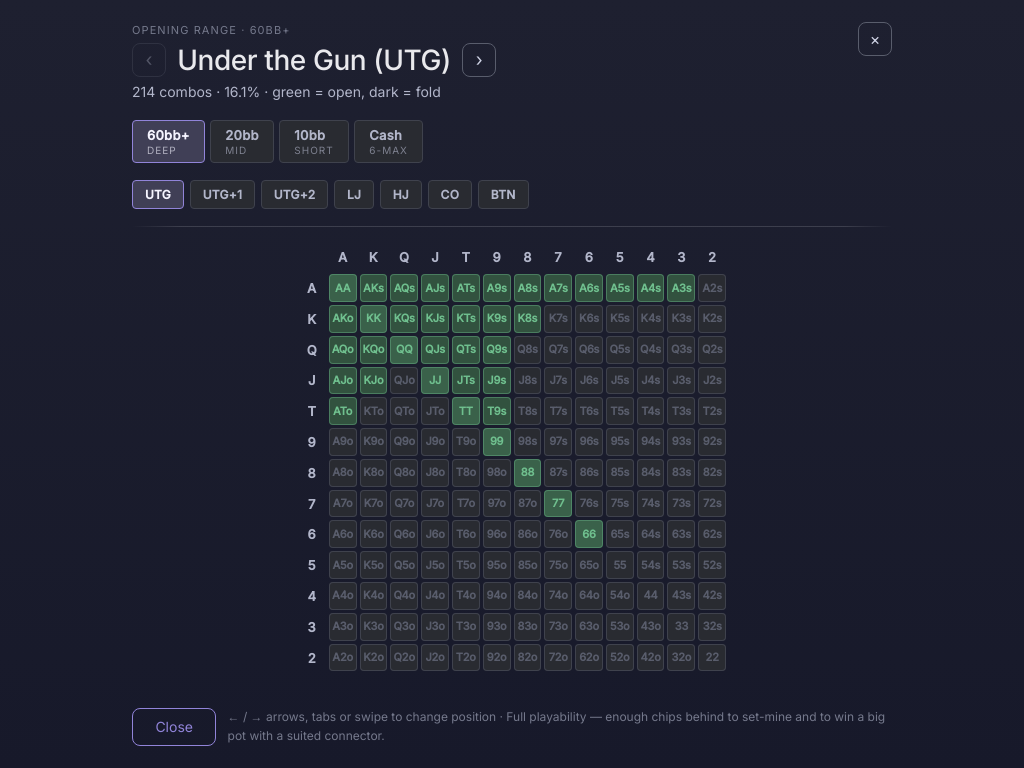
RangeSheet navigation › next/prev arrows step through the seat order
Step 1. Click the button named "Next position" → (479, 60), box [462,43,496,77]
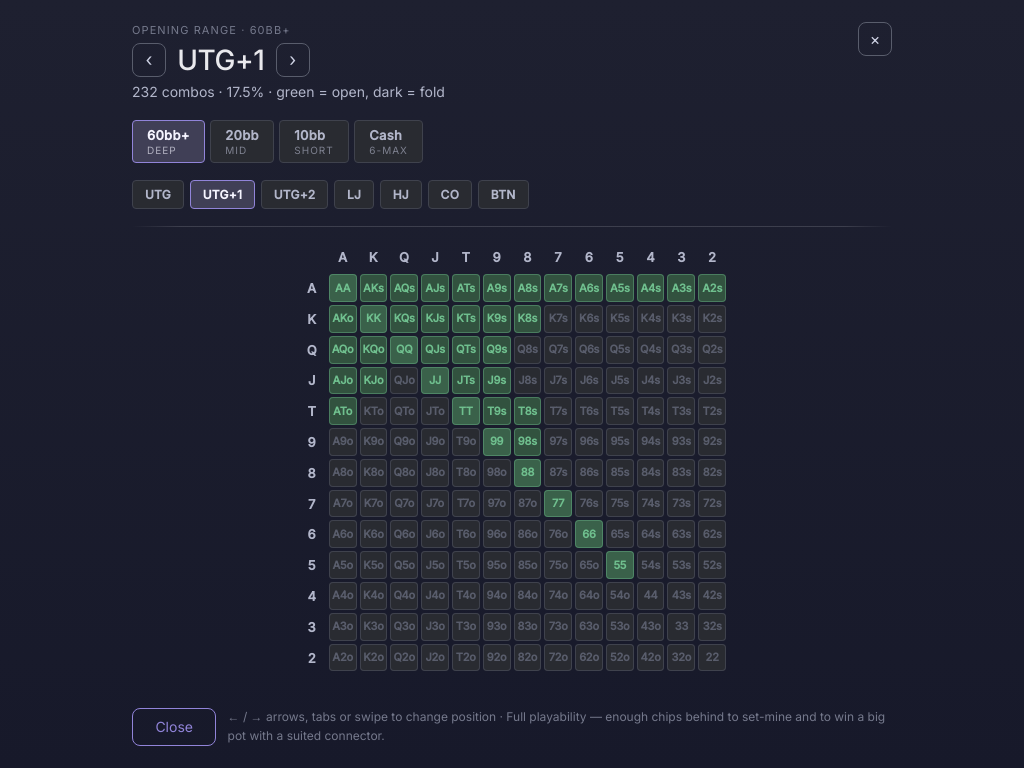
Expected: the heading reads "UTG+1", [177,43,264,77]
Step 2. Click the button named "Previous position" → (149, 60), box [132,43,166,77]
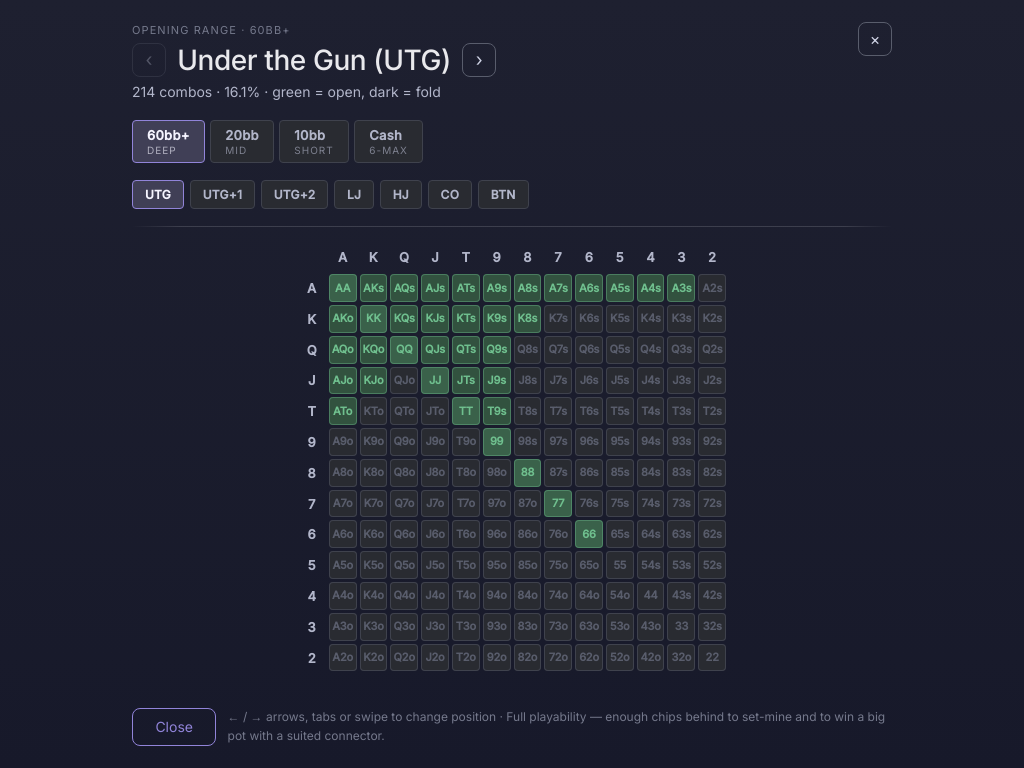
Expected: the heading shows "Under the Gun", [177,43,451,77]
